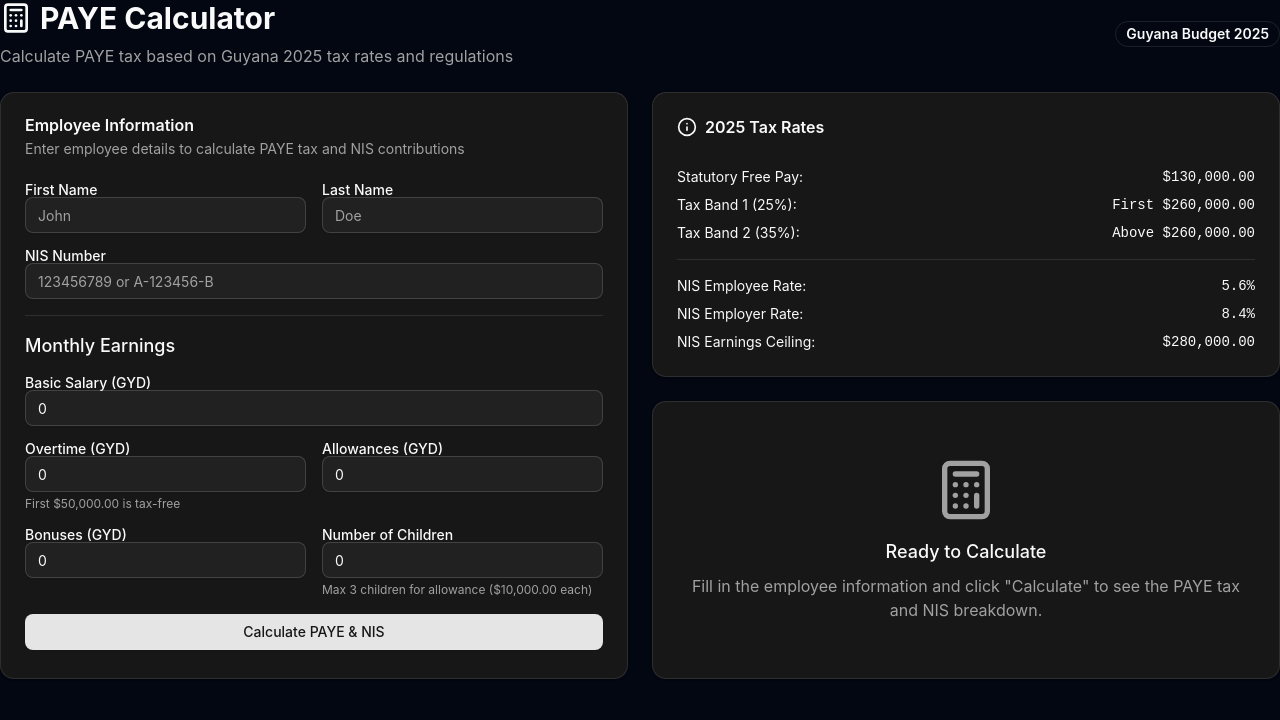
Test: React Components › PayeCalculator Component › should validate NIS number format
In the field labelled "NIS Number": x=314, y=281 left=25, top=263, right=603, bottom=299, type "invalid"
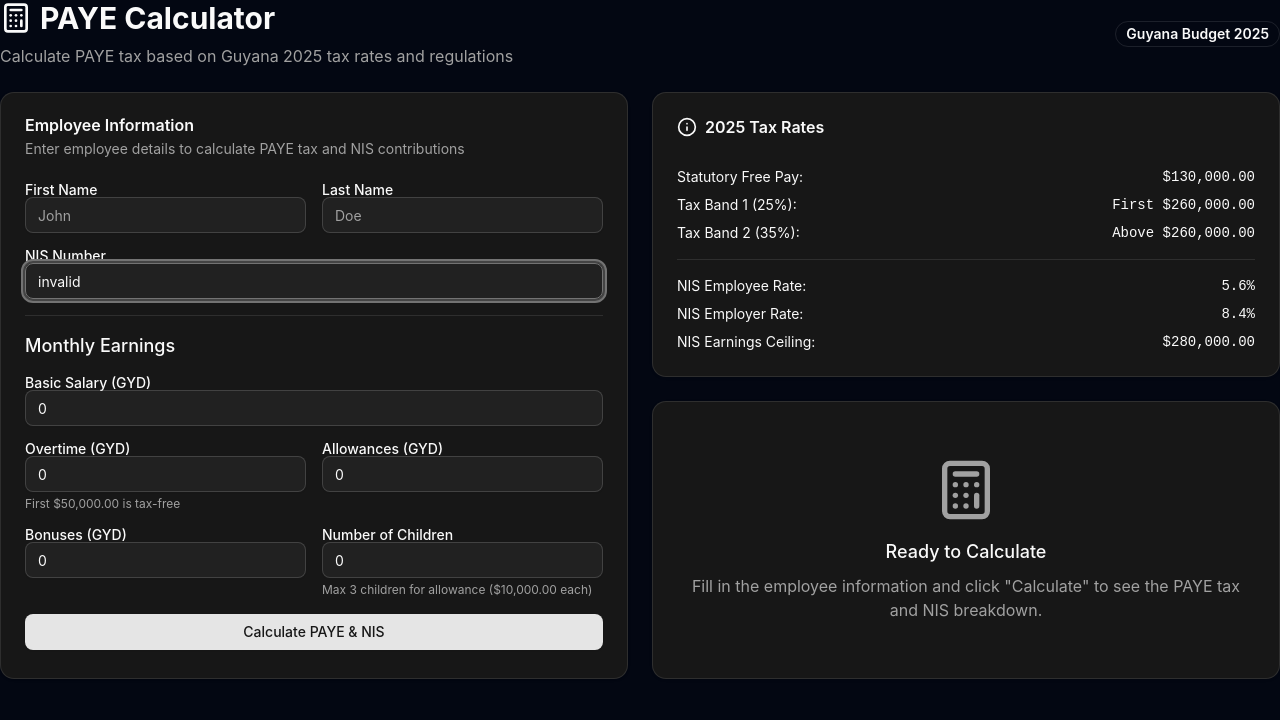
Click the button "Calculate PAYE & NIS": x=314, y=632 left=25, top=614, right=603, bottom=650
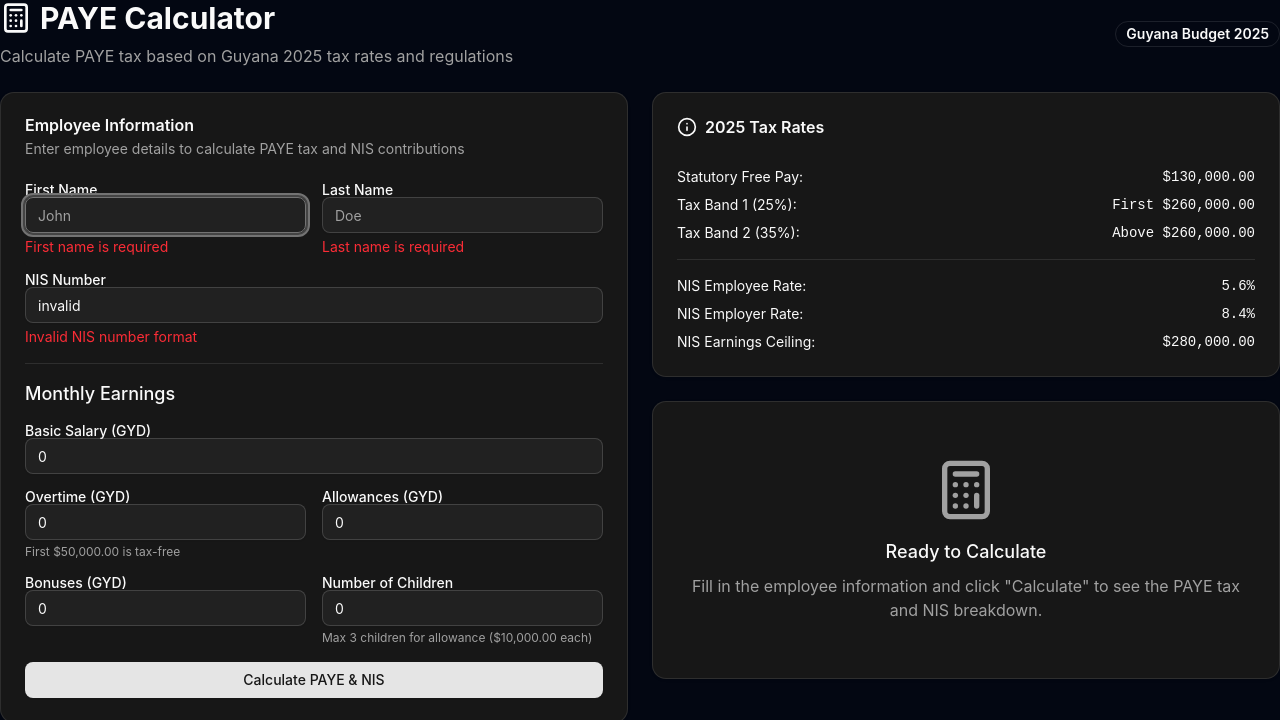
expect the text "Invalid NIS number format" is shown: met, box left=25, top=328, right=197, bottom=345
